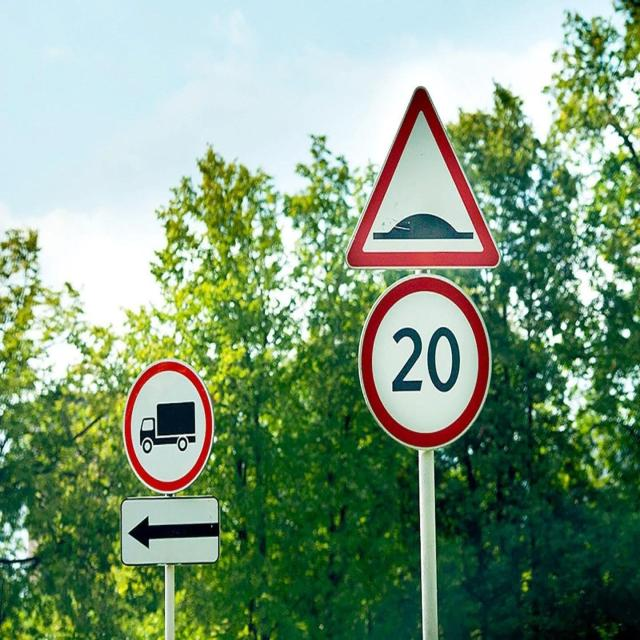Traffic sign: (346, 82, 500, 283), (355, 274, 499, 453), (118, 356, 217, 493), (114, 494, 226, 570)
